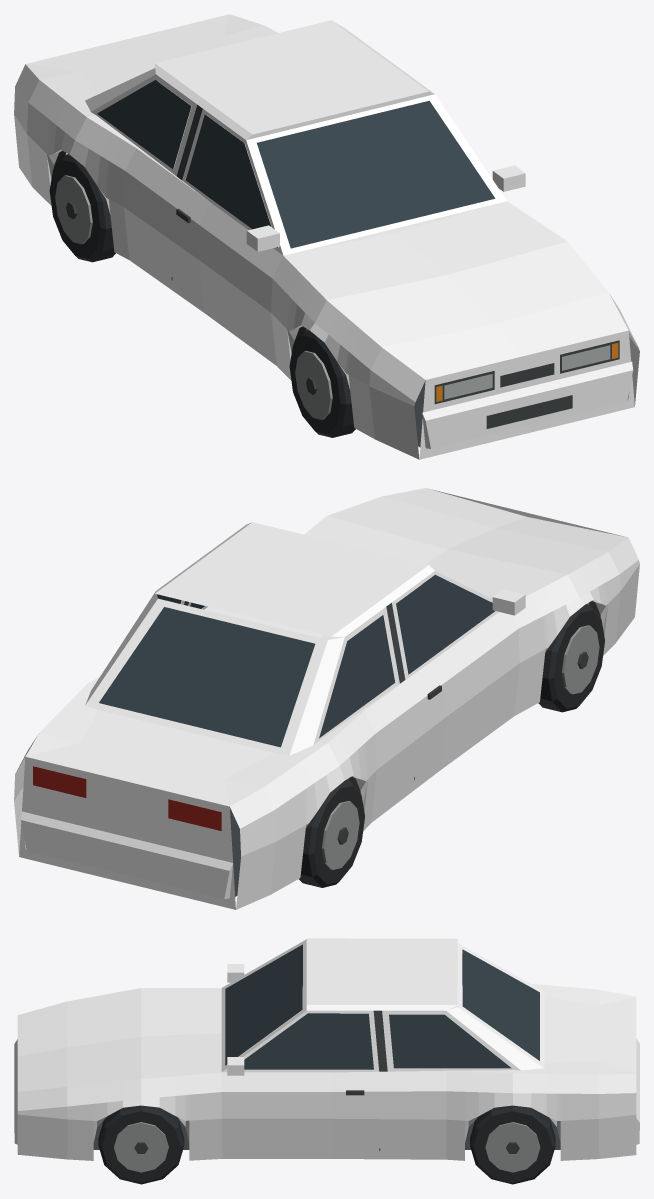
File: whitlock_sagebrush_s.glb
3 renders of one model, top to bottom at view 1: azimuth 30°, elevation 25°; view 2: azimuth 150°, elevation 25°; view 3: azimuth 270°, elevation 25°, orthographic. The views are drawn at different scales.
Visible parts, largest first — view 1: whitlock_sagebrush_s; view 2: whitlock_sagebrush_s; view 3: whitlock_sagebrush_s.
Boxes of the visible parts, x1,y1,x2,y2 form: whitlock_sagebrush_s: (14,14,639,459); whitlock_sagebrush_s: (14,488,639,909); whitlock_sagebrush_s: (14,938,639,1184).
Bounding box in the file's own units: 1.74 × 1.28 × 4.43.
Materials: 8 (1 with a texture image).
